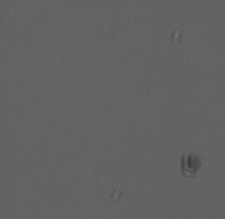Dead Cell: (180, 153, 202, 177)
